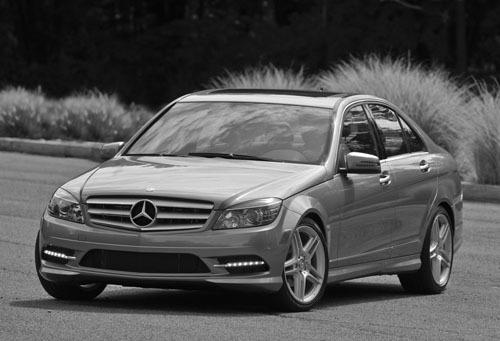car: (33, 91, 468, 314)
